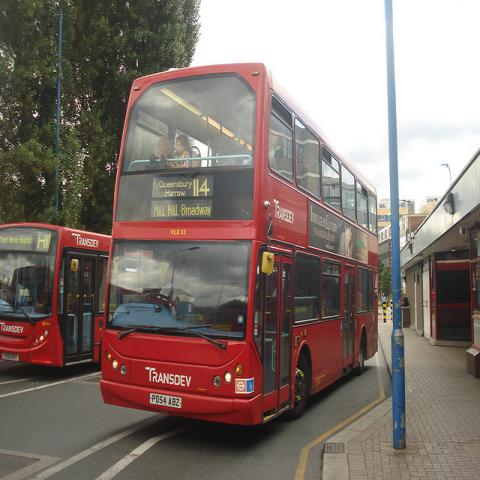bus: (99, 62, 380, 426), (1, 223, 110, 371)
